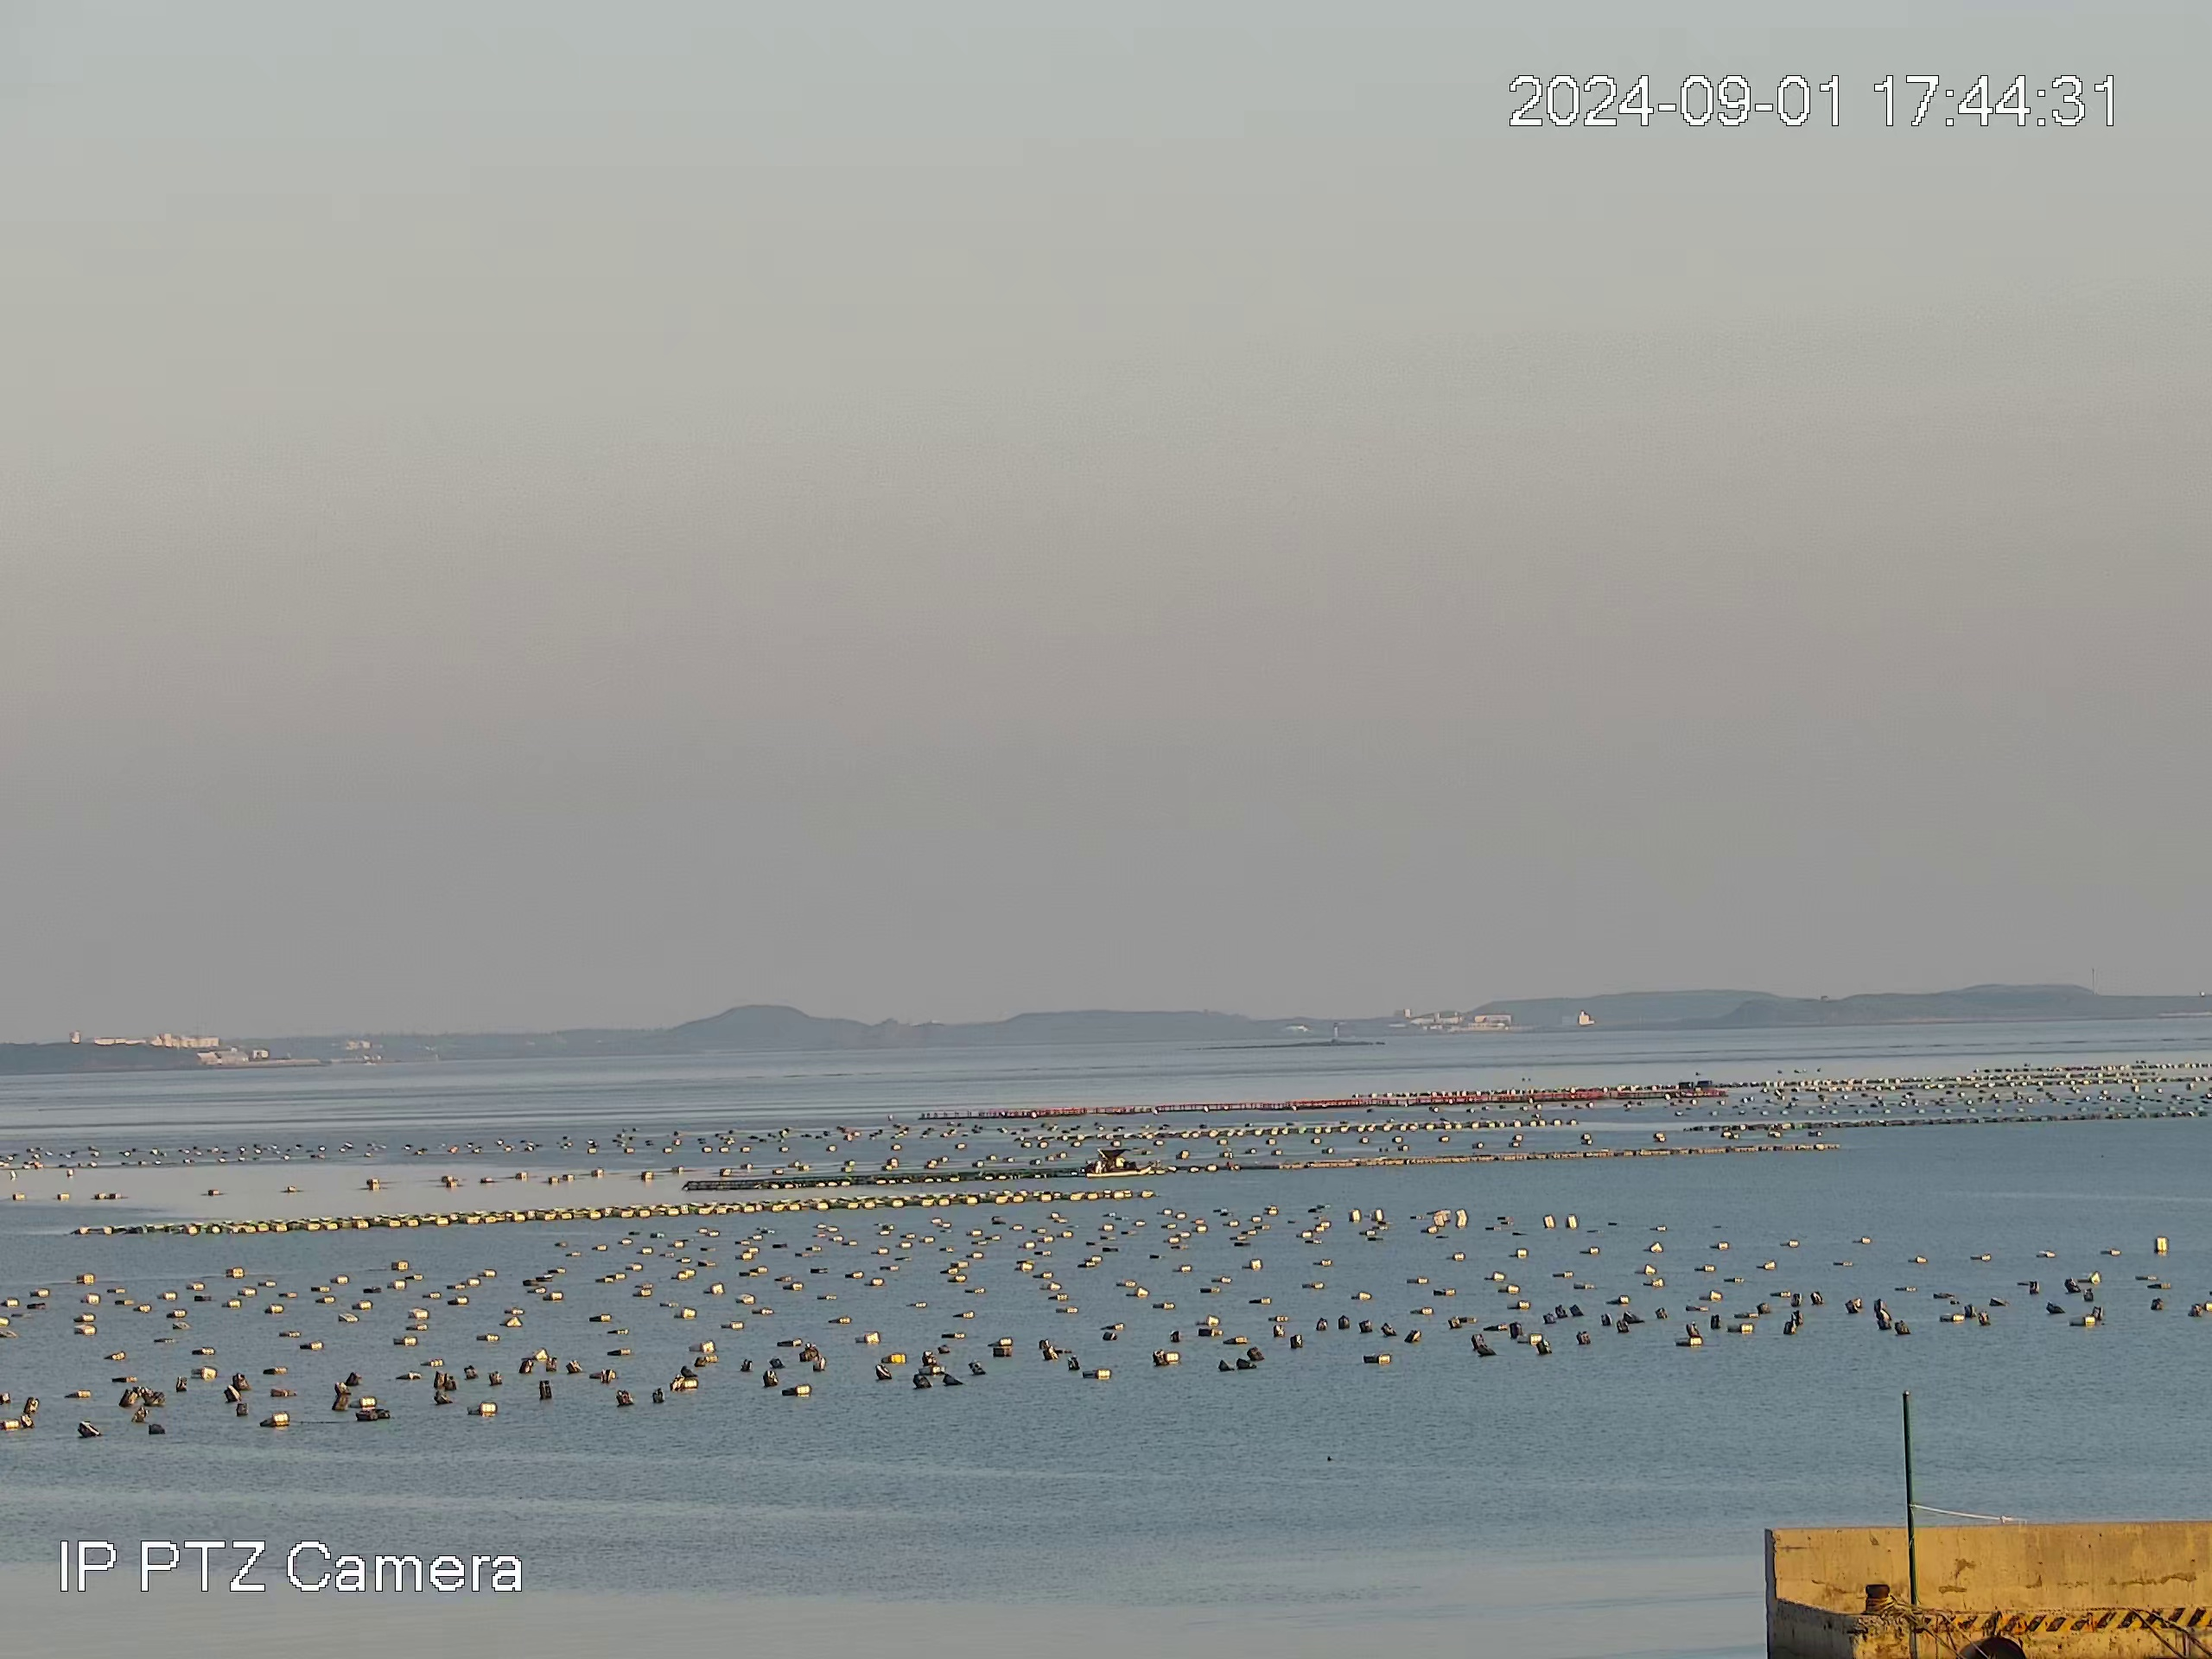boat: (1085, 1143, 1151, 1182)
